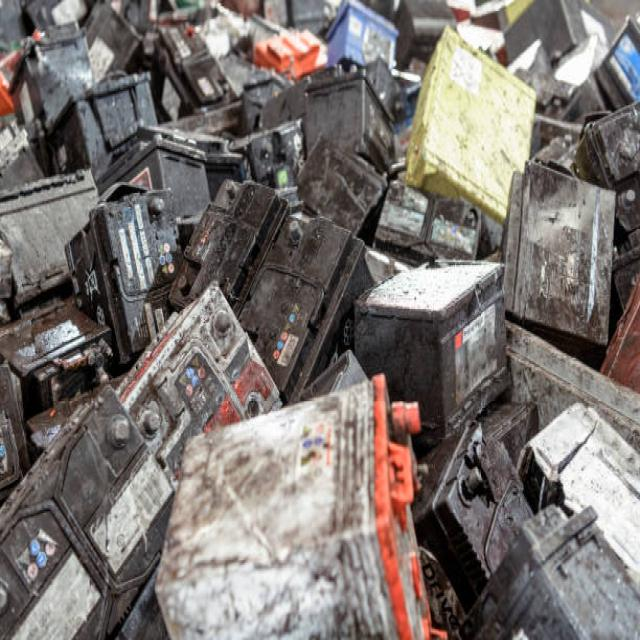metal: (22, 31, 630, 585)
